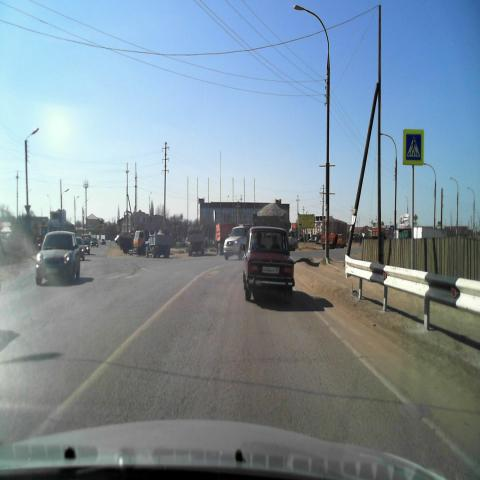5_19_1: (404, 128, 424, 166)
